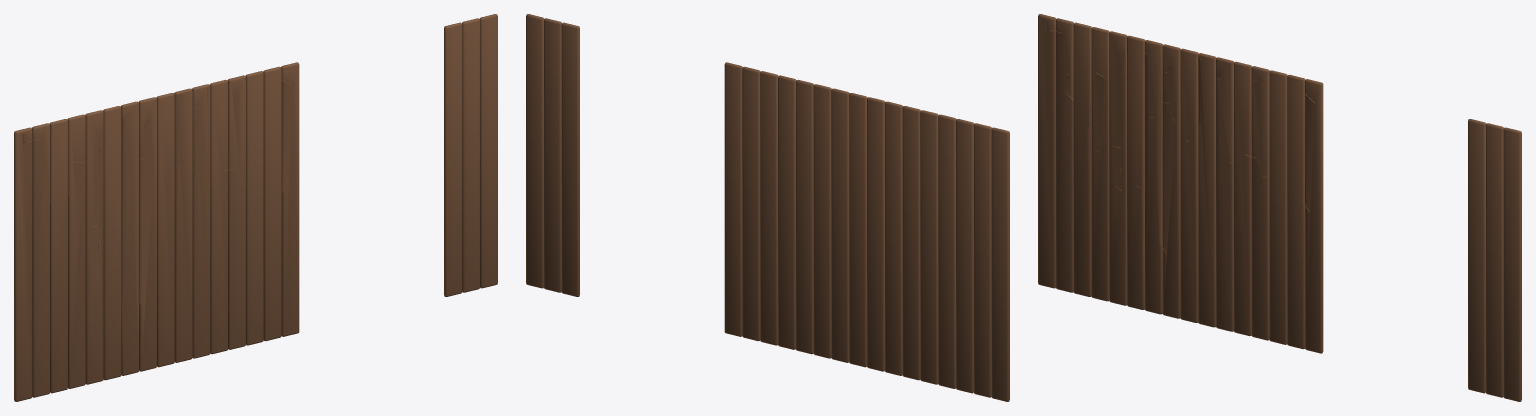
The model's file is FruitSensei_Wall2.fbx.
3 renders of one model, left to right at view 1: azimuth 30°, elevation 25°; view 2: azimuth 150°, elevation 25°; view 3: azimuth 330°, elevation 25°, orthographic.
Visible parts, largest first — view 1: Plane.004; view 2: Plane.004; view 3: Plane.004.
Boxes of the visible parts, x1=… form: Plane.004: x1=14, y1=14, x2=497, y2=401; Plane.004: x1=526, y1=14, x2=1009, y2=401; Plane.004: x1=1038, y1=14, x2=1521, y2=401.
Size of the model in its own units: 786 by 421 by 6.
